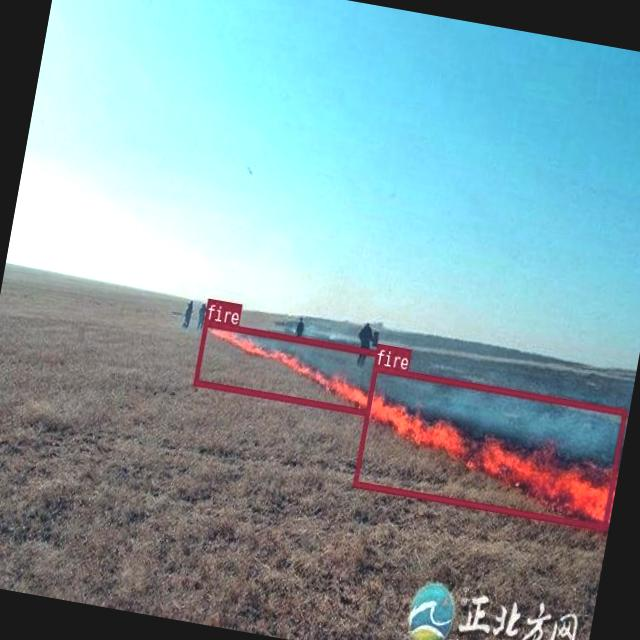fire: (352, 364, 626, 529), (192, 318, 379, 414)
